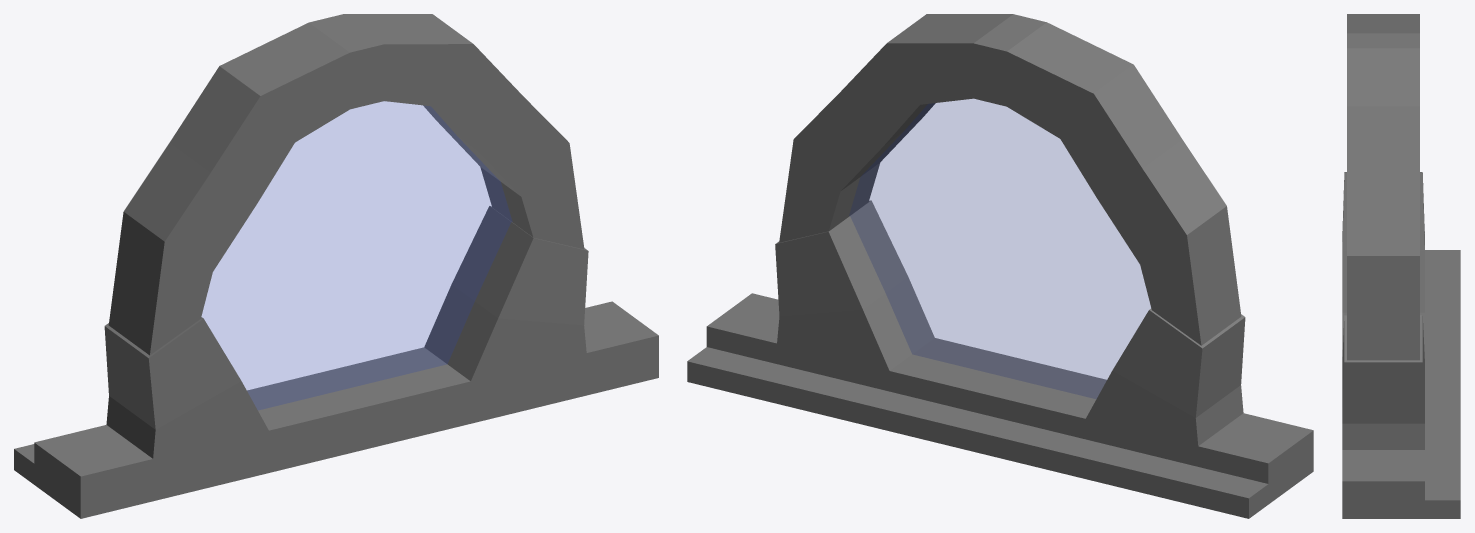
Rendered from Portal.fbx.
The picture shows the model from 3 angles, left to right: view 1: azimuth 30°, elevation 25°; view 2: azimuth 150°, elevation 25°; view 3: azimuth 270°, elevation 25°; orthographic projection. The views are drawn at different scales.
Parts seen in each view (by area): view 1: Portal; view 2: Portal; view 3: Portal.
Boxes of the visible parts, x1,y1,x2,y2 form: Portal: [14, 14, 658, 518]; Portal: [687, 14, 1313, 518]; Portal: [1342, 14, 1460, 518].
Size of the model in its own units: 1431 by 973 by 286.
